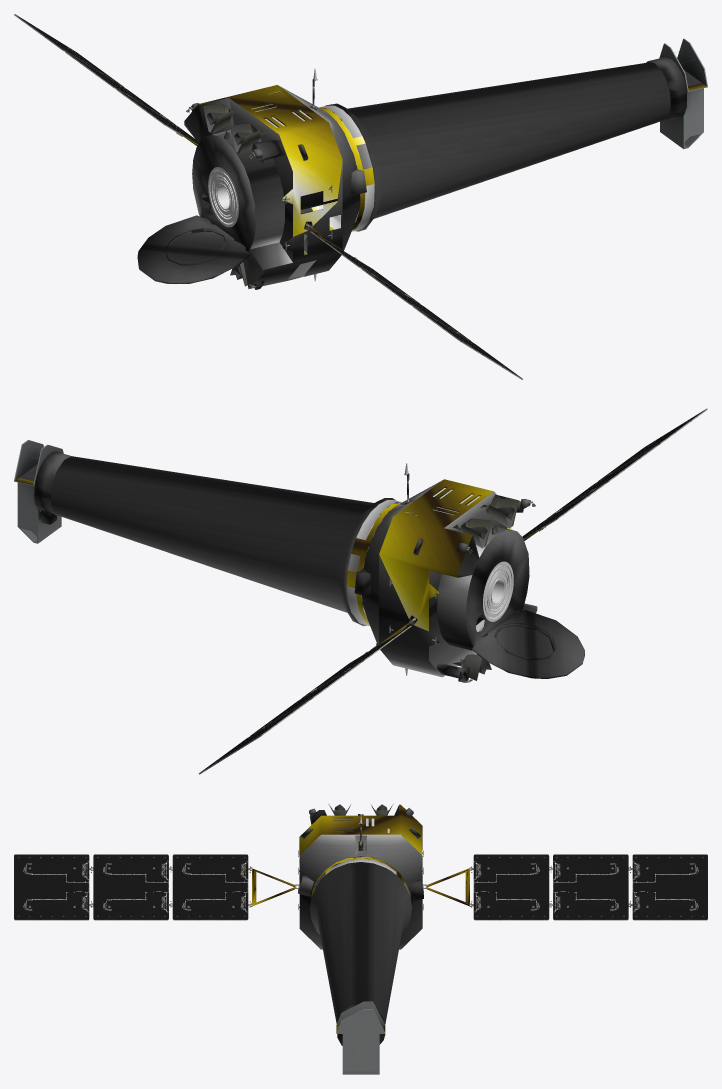
File: chandra.glb
3 views of the same model, one above another, from view 1: azimuth 30°, elevation 25°; view 2: azimuth 150°, elevation 25°; view 3: azimuth 270°, elevation 25° (orthographic). The views are drawn at different scales.
Parts seen in each view (by area): view 1: foil_silver, shiny_panel, foil_gold, AO_HRMA; view 2: foil_silver, foil_gold, shiny_panel, AO_HRMA; view 3: shiny_panel, foil_silver, foil_gold.
Boxes of the visible parts, x1,y1,x2,y2 form: foil_silver: (137, 57, 686, 289); shiny_panel: (14, 14, 707, 379); foil_gold: (181, 83, 706, 254); AO_HRMA: (208, 121, 365, 227); foil_silver: (34, 451, 584, 682); foil_gold: (15, 478, 540, 649); shiny_panel: (14, 408, 707, 774); AO_HRMA: (361, 520, 513, 621); shiny_panel: (14, 804, 707, 1074); foil_silver: (298, 805, 423, 1045); foil_gold: (252, 804, 469, 1032).
Size of the model in its own units: 13.74 by 5.12 by 19.51.
4 materials, 3 textured.
